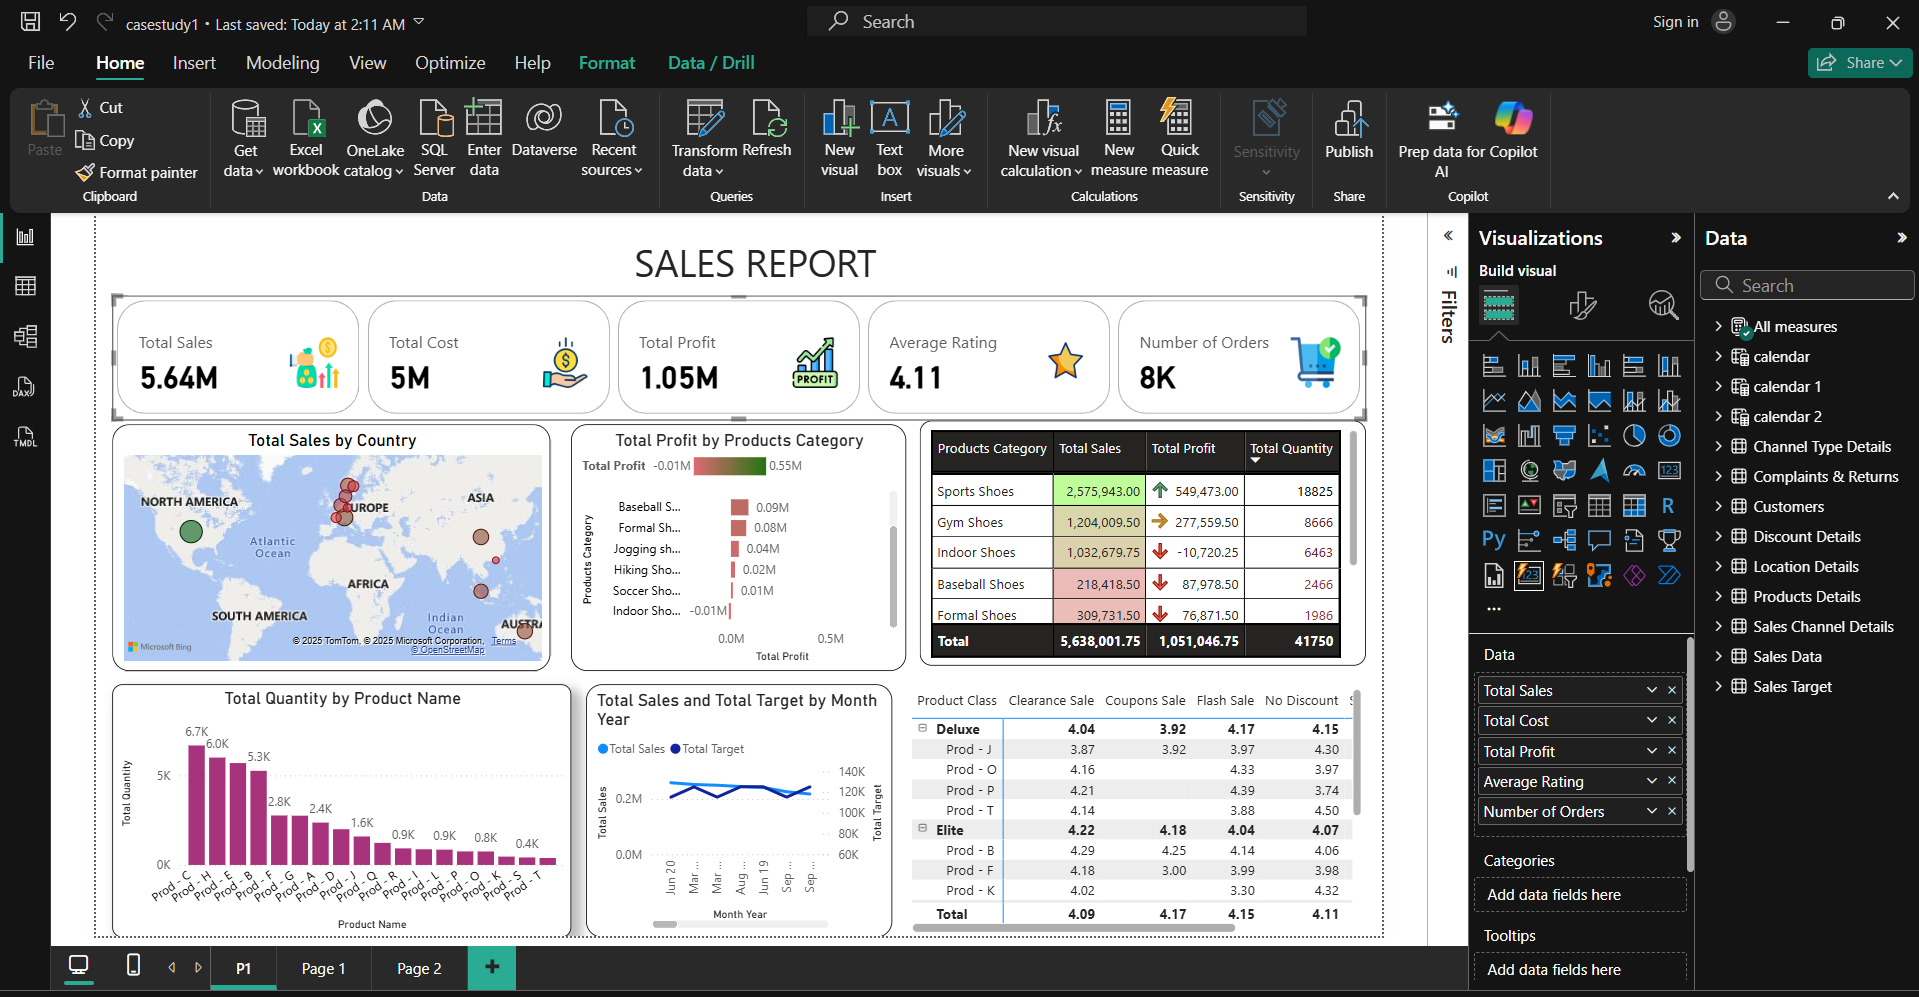

The page's visual inventory and layout, read from the dashboard file:
{"tool":"powerbi","page":{"name":"P1","canvas":[1280,720],"ordinal":0},"visuals":[{"type":"cardVisual","fields":{"Data":["All measures.Total Sales","All measures.Total Cost","All measures.Total Profit","All measures.Average Rating","All measures.Number of Orders"]},"box":[15.9,82.6,1247.7,124],"z":0},{"type":"textbox","box":[31.8,19.1,1247.7,63.6],"z":1000},{"type":"map","fields":{"Category":["Location Details.Country"],"Size":["All measures.Total Sales"]},"box":[16,210.1,436.3,245.4],"z":2000},{"type":"barChart","fields":{"Category":["Products Details.Products Category"],"Y":["All measures.Total Profit"]},"box":[473.2,210.1,333.6,245.4],"z":3000},{"type":"columnChart","fields":{"Category":["Products Details.Product Name"],"Y":["All measures.Total Quantity"]},"box":[16,468.4,457.1,251.8],"z":4000},{"type":"lineChart","fields":{"Category":["calendar 2.Month Year"],"Y":["All measures.Total Sales"],"Y2":["All measures.Total Target"]},"box":[487.6,468.4,304.8,251.8],"z":5000},{"type":"tableEx","fields":{"Values":["Products Details.Products Category","All measures.Total Sales","All measures.Total Profit","All measures.Total Quantity"]},"box":[819.6,206.9,444.3,243.8],"z":6000},{"type":"pivotTable","fields":{"Rows":["Products Details.Product Class","Products Details.Product Name"],"Columns":["Discount Details.Discount Type"],"Values":["All measures.Average Rating"]},"box":[806.8,468.4,457.1,251.8],"z":7000}]}

Visuals, with their boxes on the page's 1280x720 design canvas (x1, y1, x2, y2). These are canvas units, not pixel positions in the 1919x997 screenshot, which may show the page scaled, cropped or inside an application window:
cardVisual - All measures.Total Sales x All measures.Total Cost: region(16, 83, 1264, 207)
textbox: region(32, 19, 1280, 83)
map - Location Details.Country x All measures.Total Sales: region(16, 210, 452, 456)
barChart - Products Details.Products Category x All measures.Total Profit: region(473, 210, 807, 456)
columnChart - Products Details.Product Name x All measures.Total Quantity: region(16, 468, 473, 720)
lineChart - calendar 2.Month Year x All measures.Total Sales: region(488, 468, 792, 720)
tableEx - Products Details.Products Category x All measures.Total Sales: region(820, 207, 1264, 451)
pivotTable - Products Details.Product Class x Products Details.Product Name: region(807, 468, 1264, 720)
